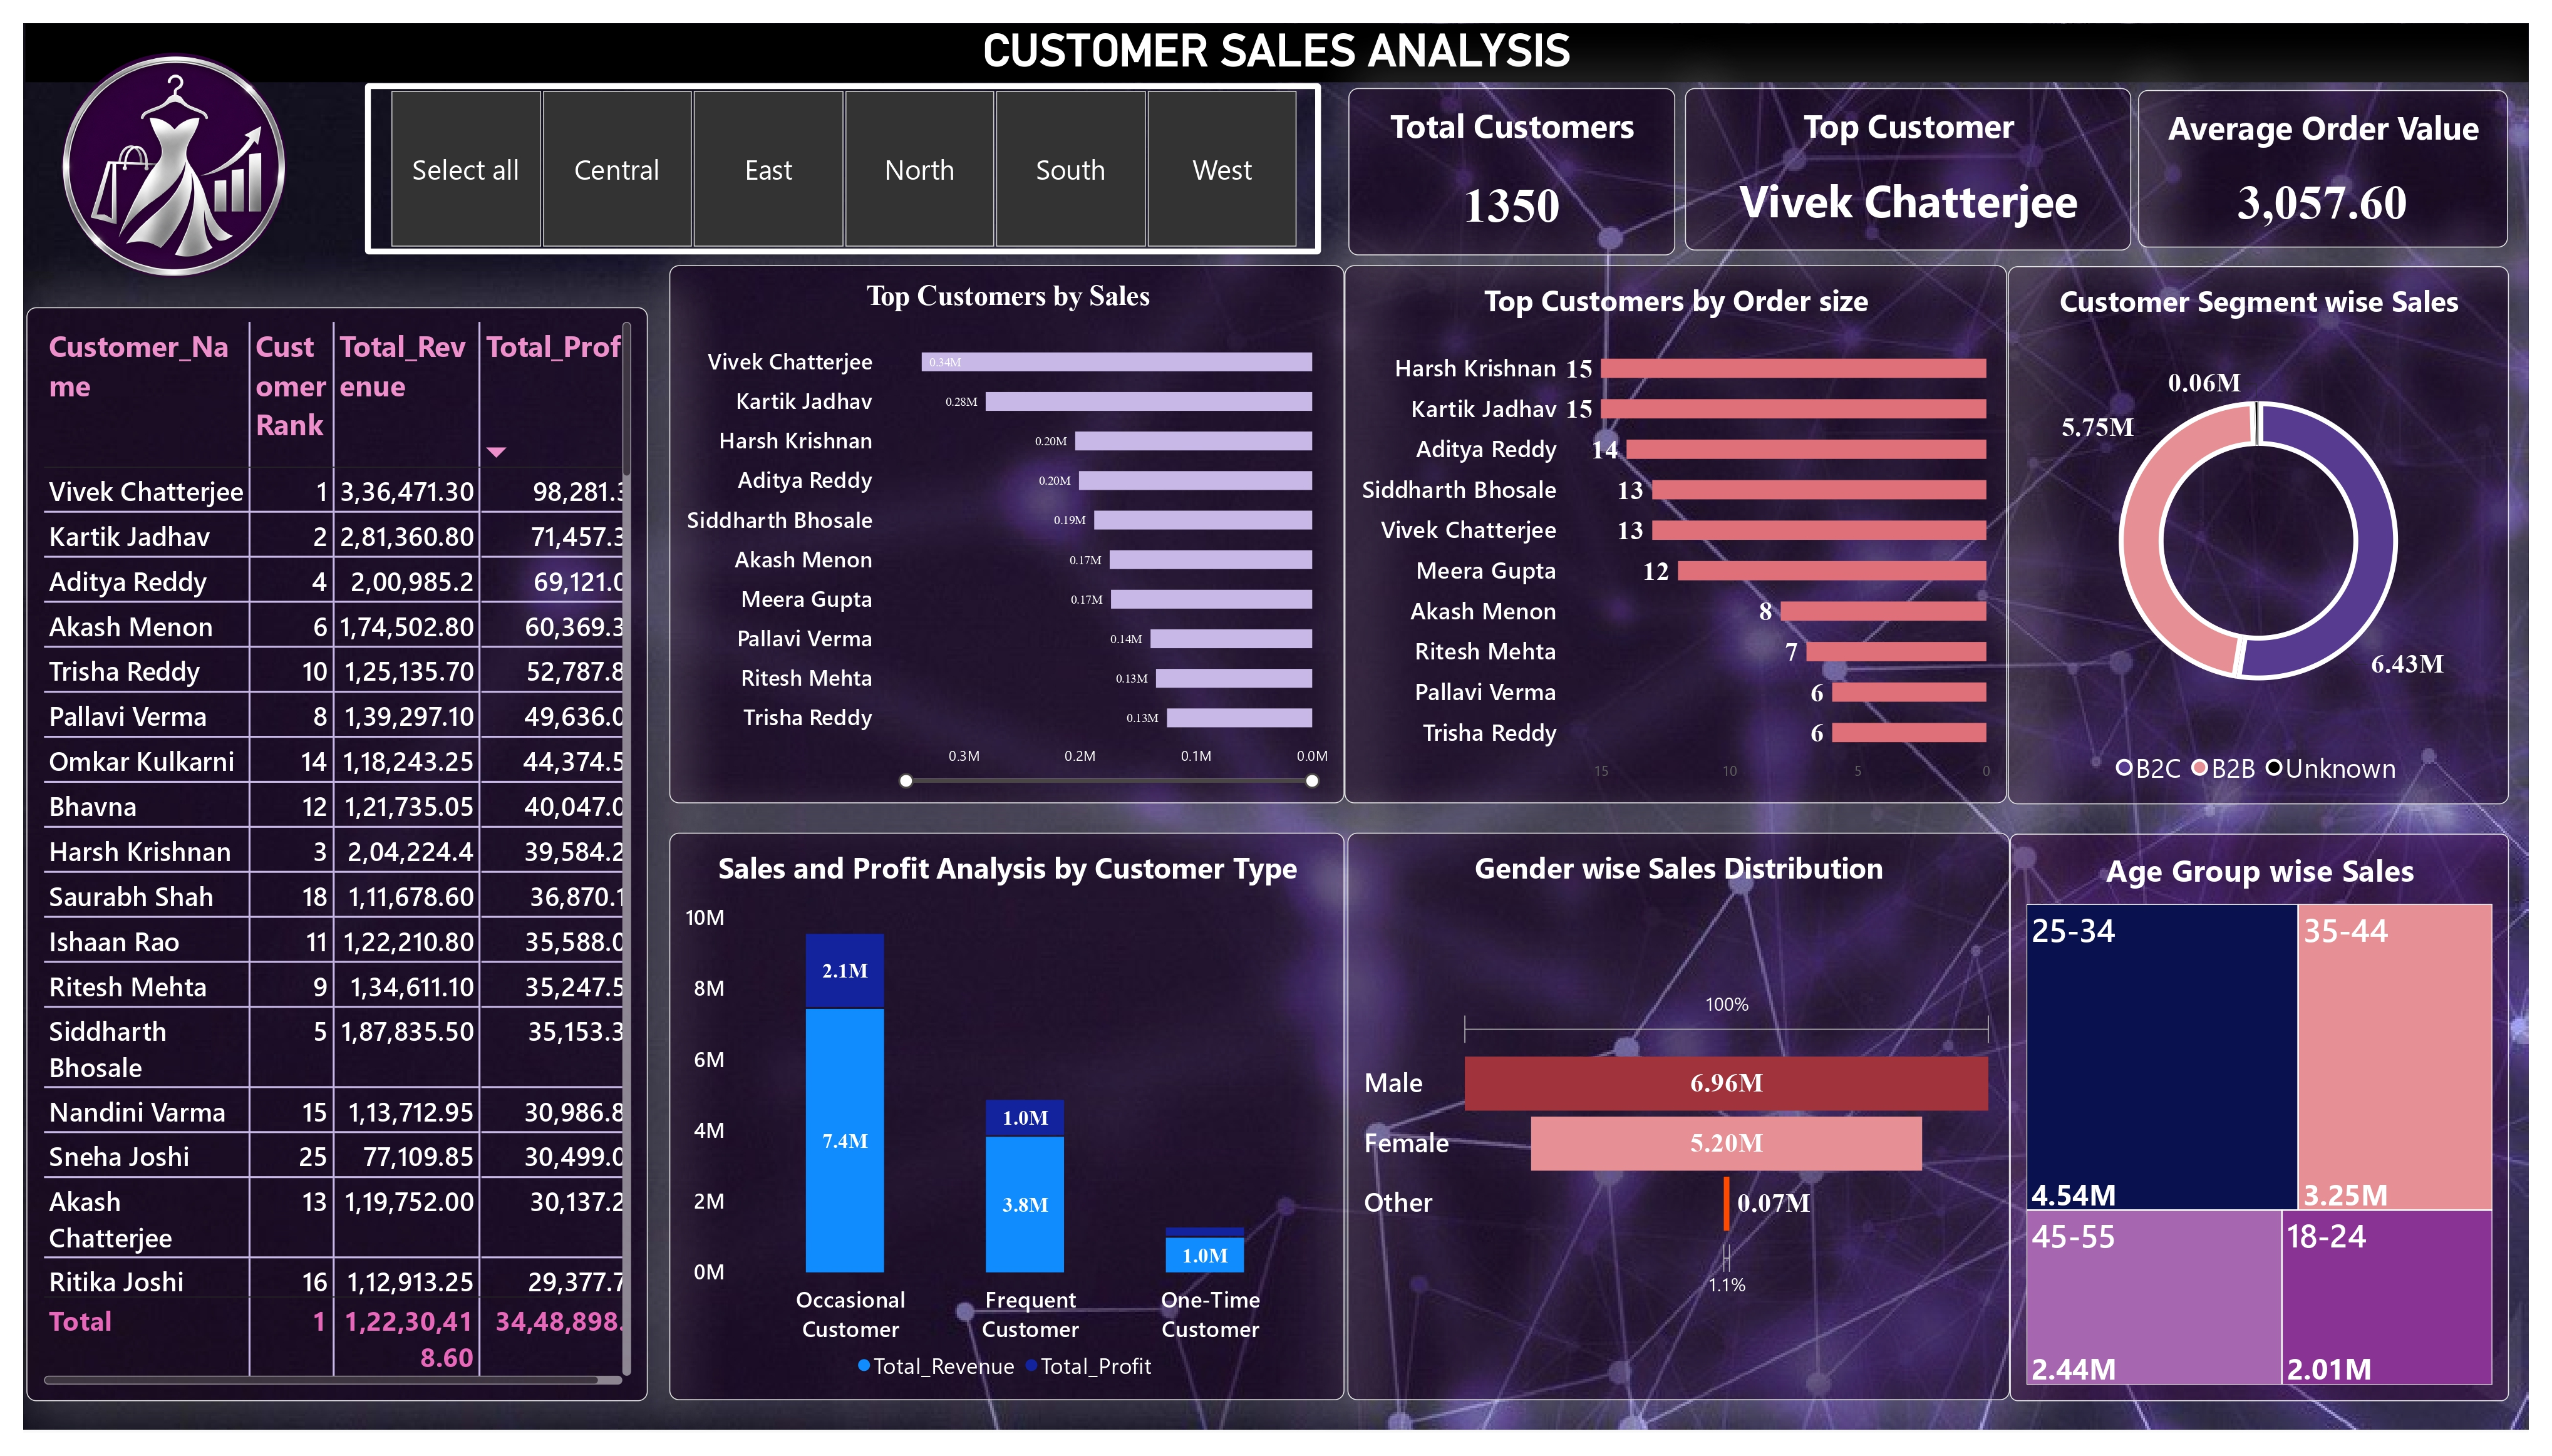

The dashboard page shown, as its layout file describes it:
{"tool":"powerbi","page":{"name":"Customer_Analysis","canvas":[2560,1440],"ordinal":1},"visuals":[{"type":"shape","title":"CUSTOMER SALES ANALYSIS","box":[2,0,2558,60],"z":0},{"type":"image","box":[30,30,247.5,230],"z":1000},{"type":"clusteredBarChart","title":"Top Customers by Sales","fields":{"Category":["Customer_dim.Customer_Name"],"Y":["Measure.Total_Revenue"]},"box":[660,246.7,690,550],"z":2000},{"type":"pieChart","title":"Customer Segment wise Sales ","fields":{"Category":["Customer_dim.Segment"],"Y":["Measure.Total_Revenue"]},"box":[2027.5,247.5,512.5,550],"z":3000},{"type":"tableEx","fields":{"Values":["Customer_dim.Customer_Name","Measure.Customer Rank","Measure.Total_Revenue","measure.Total_Profit"]},"box":[2.5,290,635,1117.5],"z":4000},{"type":"clusteredBarChart","title":"Top Customers by Order size","fields":{"Category":["Customer_dim.Customer_Name"],"Y":["Measure.Total_Orders"]},"box":[1350,246.7,676.7,550],"z":5000},{"type":"card","title":"Average Order Value","fields":{"Values":["Measure.AOV"]},"box":[2161,68.3,378,161],"z":6000},{"type":"columnChart","title":"Sales and Profit Analysis by Customer Type","fields":{"Category":["Customer_dim.Customer_Type"],"Y":["measure.Total_Revenue","measure.Total_Profit"]},"box":[660,826.7,690,580],"z":7000},{"type":"funnel","title":"Gender wise Sales Distribution","fields":{"Category":["Customer_dim.Gender"],"Y":["Measure.Total_Revenue"]},"box":[1353.3,826.7,677,580],"z":8000},{"type":"treemap","title":"Age Group wise Sales","fields":{"Group":["Customer_dim.Age_Group"],"Values":["Measure.Total_Revenue"]},"box":[2030,827.5,510,580],"z":9000},{"type":"slicer","fields":{"Values":["Territory_dim.Region"]},"box":[348.8,61,977.5,175],"z":10000},{"type":"card","title":"Total Customers","fields":{"Values":["Measure.Total_Customers"]},"box":[1353.7,65.9,334.1,170.7],"z":11000},{"type":"card","title":"Top Customer","fields":{"Values":["measure.Top Customer"]},"box":[1697.6,65.9,456.1,165.9],"z":12000}]}

Visuals, with their boxes on the page's 2560x1440 design canvas (x1, y1, x2, y2). These are canvas units, not pixel positions in the 2552x1456 screenshot, which may show the page scaled, cropped or inside an application window:
"CUSTOMER SALES ANALYSIS" shape: (x1=2, y1=0, x2=2560, y2=60)
image: (x1=30, y1=30, x2=278, y2=260)
"Top Customers by Sales" clusteredBarChart: (x1=660, y1=247, x2=1350, y2=797)
"Customer Segment wise Sales " pieChart: (x1=2028, y1=248, x2=2540, y2=798)
tableEx - Customer_dim.Customer_Name x Measure.Customer Rank: (x1=2, y1=290, x2=638, y2=1408)
"Top Customers by Order size" clusteredBarChart: (x1=1350, y1=247, x2=2027, y2=797)
"Average Order Value" card: (x1=2161, y1=68, x2=2539, y2=229)
"Sales and Profit Analysis by Customer Type" columnChart: (x1=660, y1=827, x2=1350, y2=1407)
"Gender wise Sales Distribution" funnel: (x1=1353, y1=827, x2=2030, y2=1407)
"Age Group wise Sales" treemap: (x1=2030, y1=828, x2=2540, y2=1408)
slicer - Territory_dim.Region: (x1=349, y1=61, x2=1326, y2=236)
"Total Customers" card: (x1=1354, y1=66, x2=1688, y2=237)
"Top Customer" card: (x1=1698, y1=66, x2=2154, y2=232)
